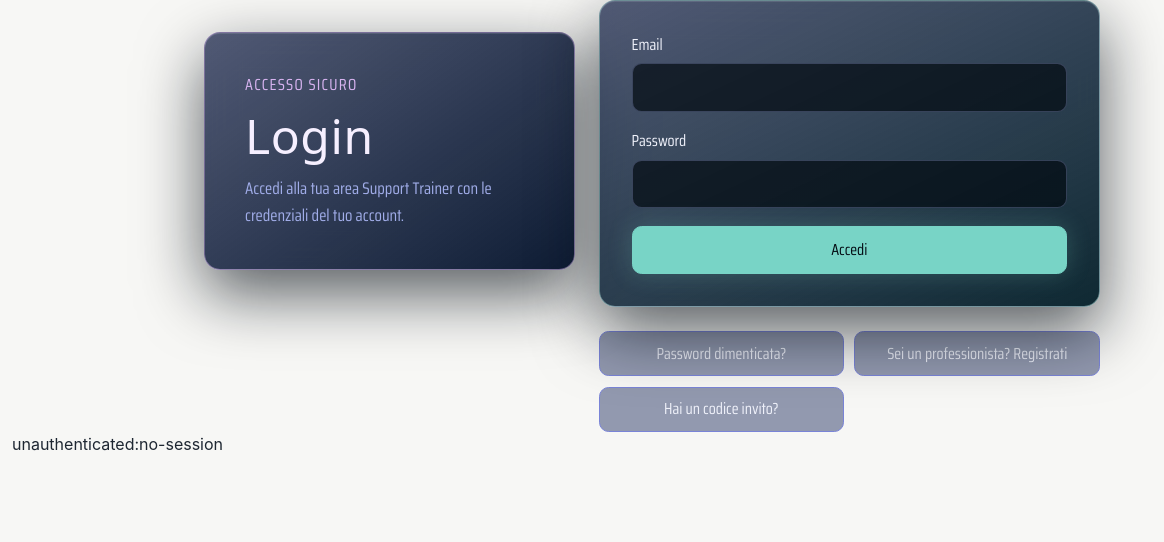
Test: LoginPage errori del tentativo › cancella AUTHENTICATION_ERROR quando cambia una credenziale senza mutare la reason
Type "User@Example.COM" into the field labelled "Email".
click(849, 88); type("User@Example.COM")  # box [632,63,1067,112]
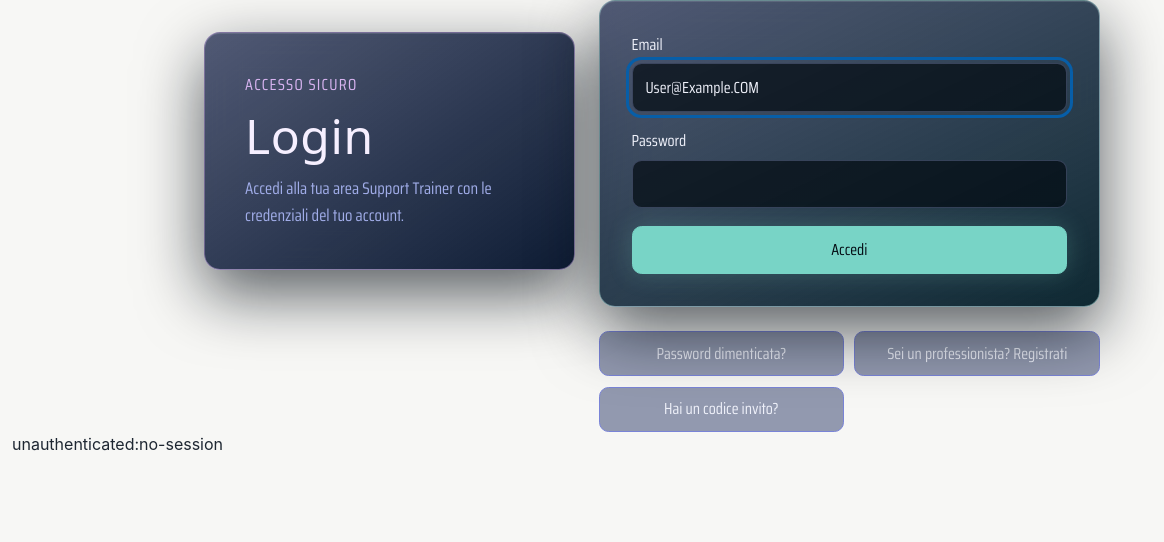
Type "Password sicura" into the password field labelled "Password".
click(849, 184); type("Password sicura")  # box [632,160,1067,208]
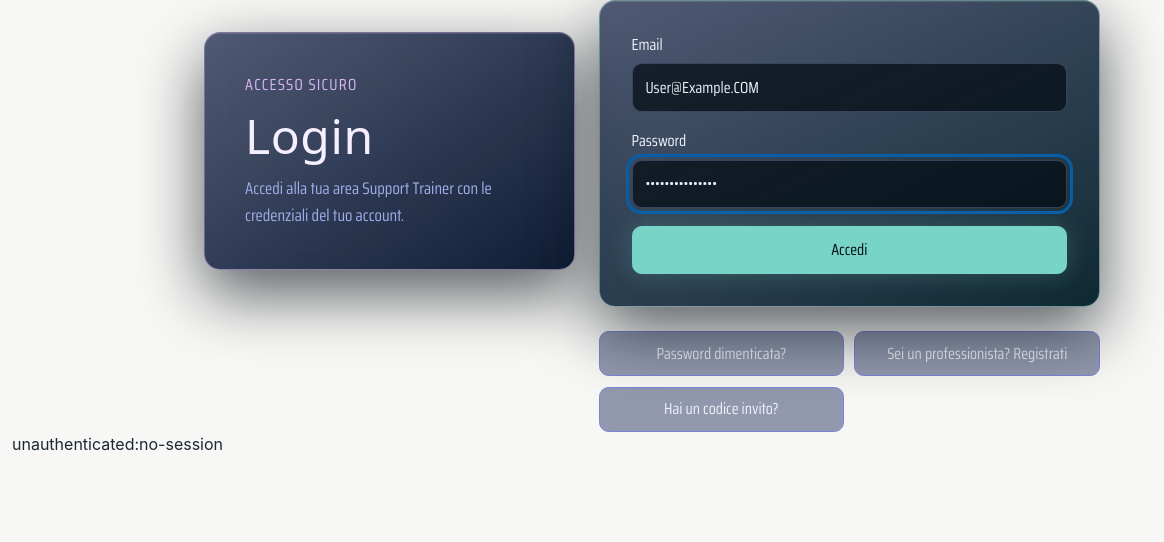
Click the button "Accedi".
click(849, 250)  # box [632,226,1067,274]
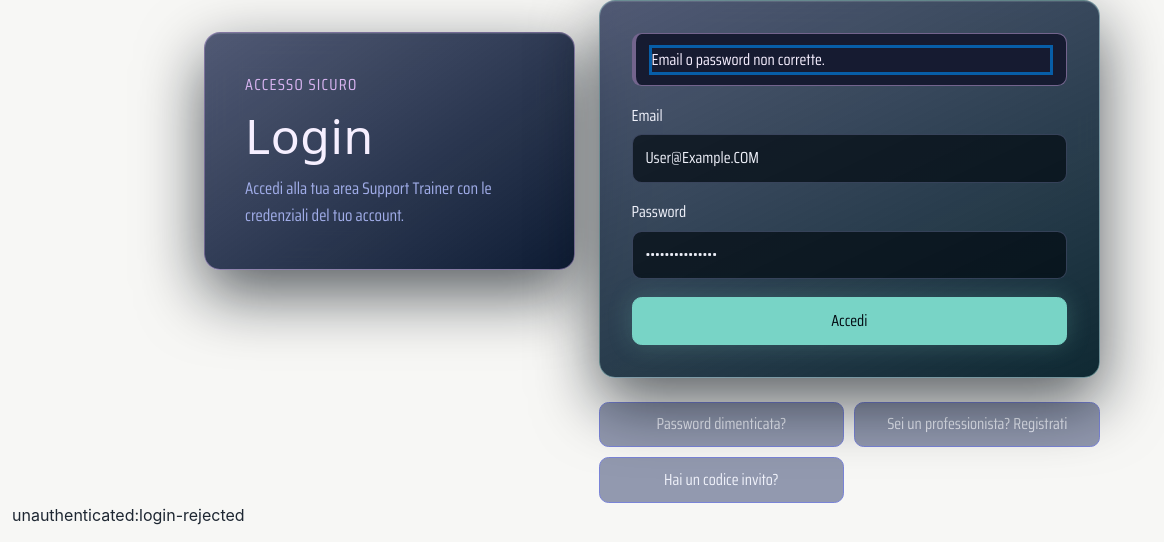
Now the text "Email o password non corrette." is shown, box [652,47,825,72]
Now the text with test id "auth-state" reads "unauthenticated:login-rejected", box [12,505,245,525]
Type "x" into the password field labelled "Password".
click(849, 255); type("x")  # box [632,230,1067,279]
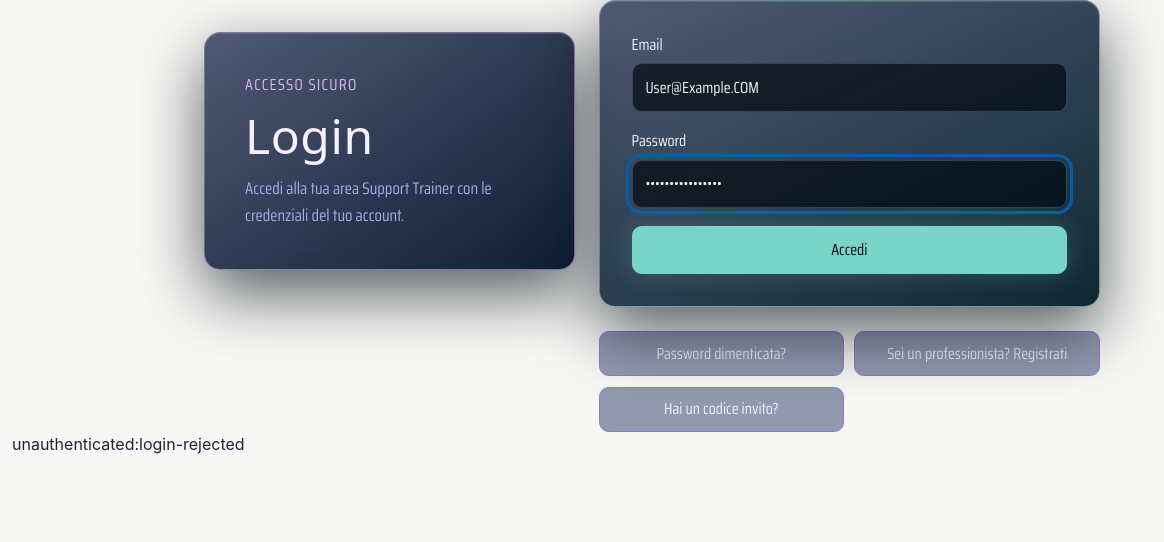
Now the text with test id "auth-state" reads "unauthenticated:login-rejected", box [12,434,245,454]
Now the text "Email o password non corrette." is gone
